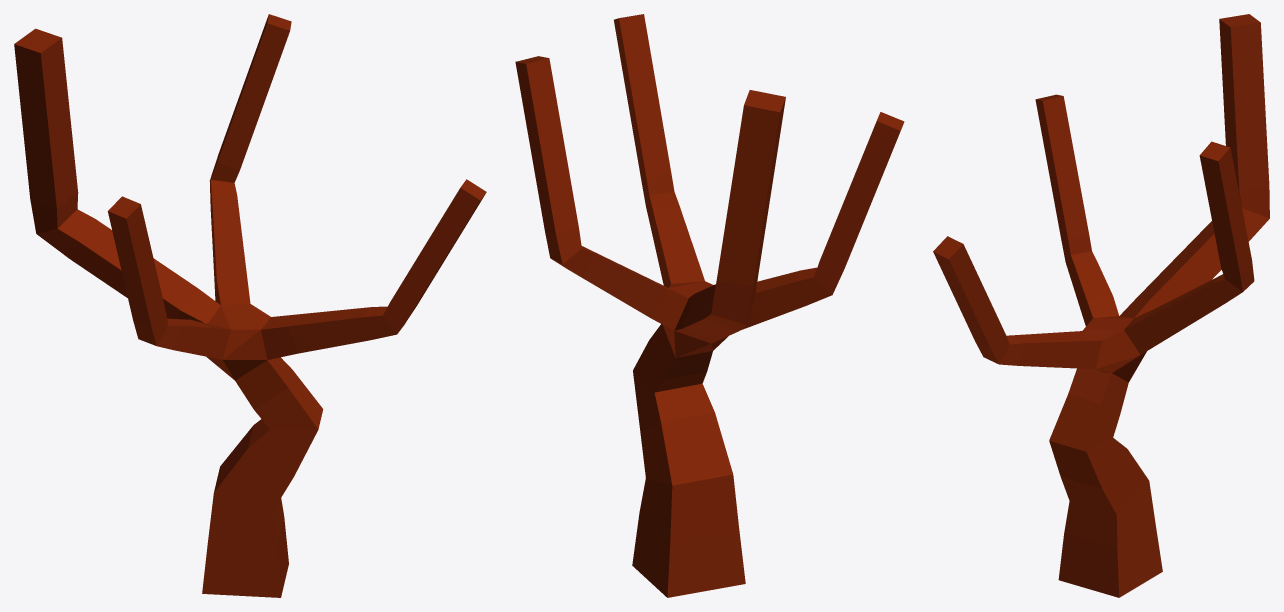
Rendered from Arbol_Podado_1.fbx.
3 views of the same model, side by side, from view 1: azimuth 30°, elevation 25°; view 2: azimuth 150°, elevation 25°; view 3: azimuth 270°, elevation 25° (orthographic). The views are drawn at different scales.
Parts seen in each view (by area): view 1: Cube.003; view 2: Cube.003; view 3: Cube.003.
Boxes of the visible parts, bbox=[...] form: Cube.003: bbox=[14, 14, 486, 597]; Cube.003: bbox=[515, 14, 904, 597]; Cube.003: bbox=[933, 14, 1269, 597].
Size of the model in its own units: 1.14 by 1.77 by 1.1.
